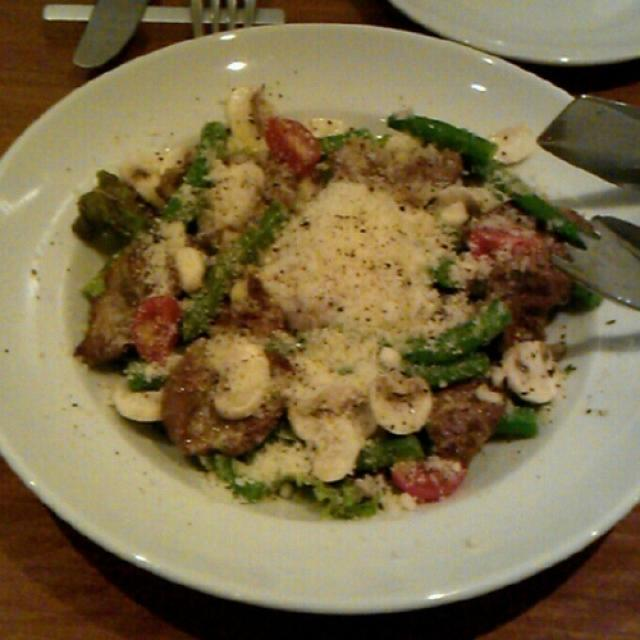蔬菜料理: (64, 84, 595, 500)
